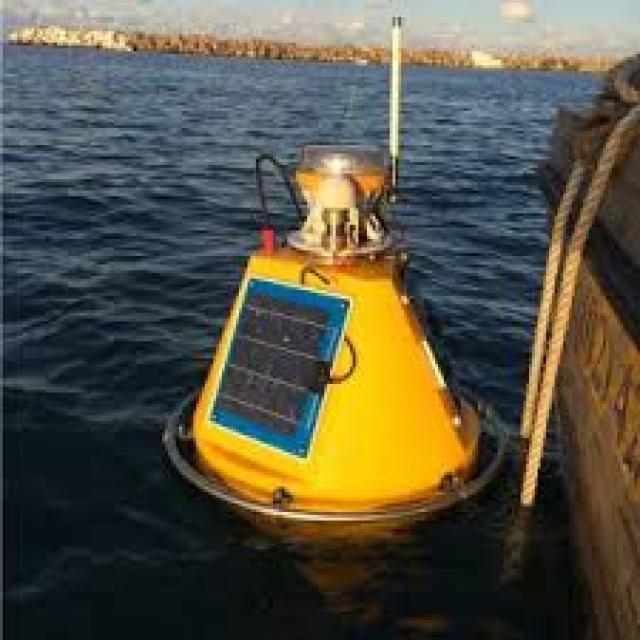buoy: (158, 50, 515, 538)
